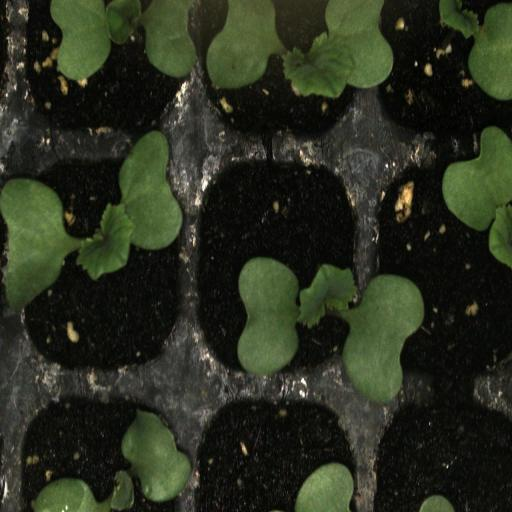seedling: (186, 142, 371, 391), (11, 140, 192, 385), (17, 0, 194, 144), (192, 0, 370, 141), (13, 383, 192, 512)
